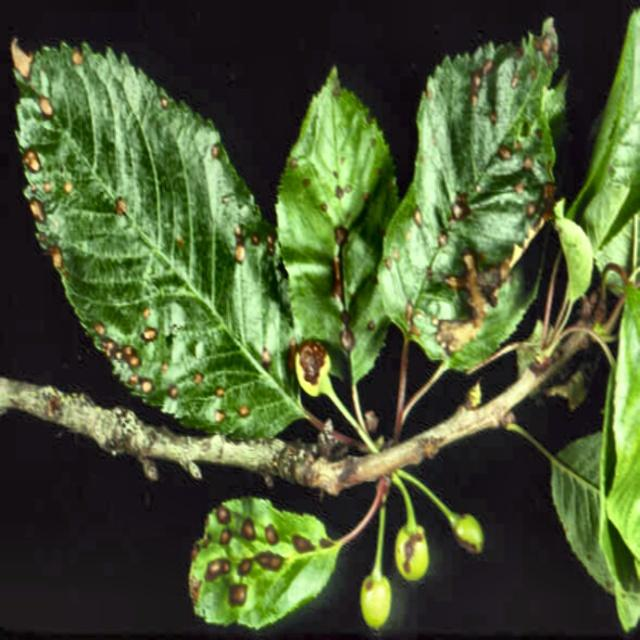leaf_spot: (0, 77, 262, 412), (178, 491, 354, 638)
